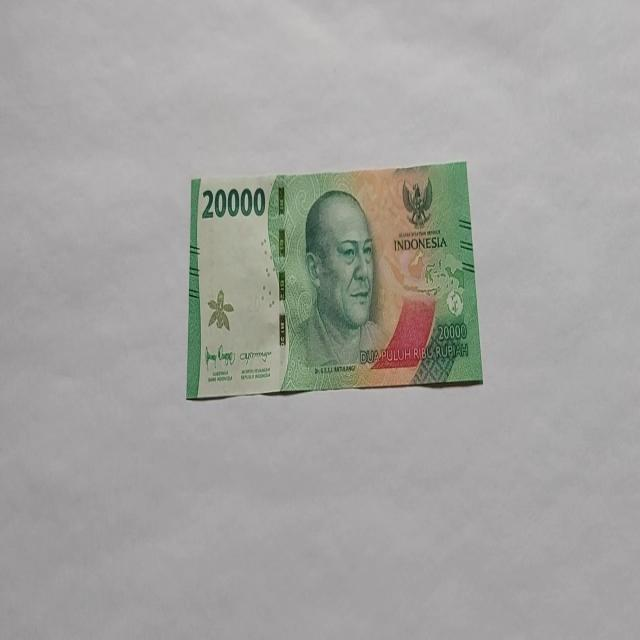dua puluh ribu rupiah: (186, 159, 484, 401), (282, 186, 391, 390)
